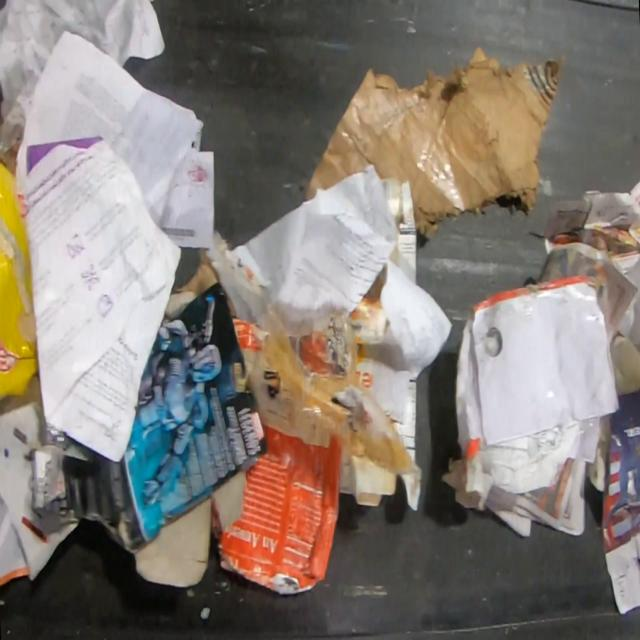cardboard: (302, 44, 566, 239), (212, 315, 344, 596), (32, 423, 247, 589), (469, 274, 620, 447), (291, 273, 388, 390), (164, 247, 220, 320)
soft_plastic: (202, 227, 417, 477), (0, 154, 39, 404)
